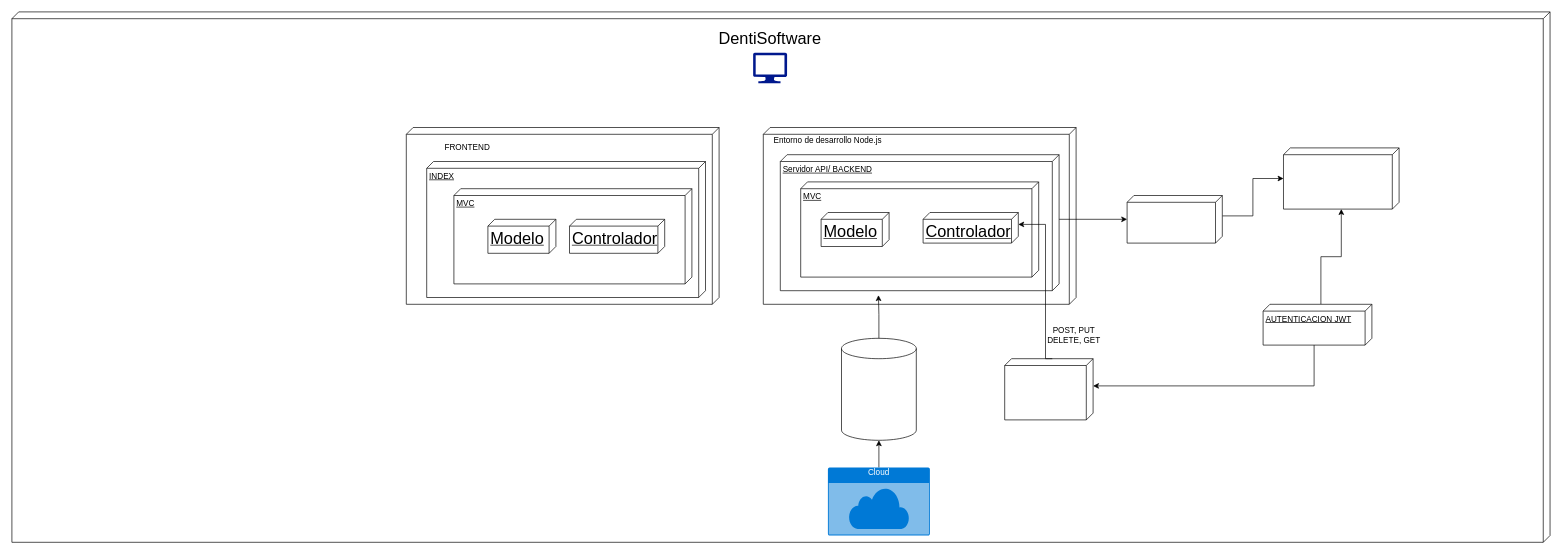
Image size: 1562x554. Some labels were removed from this diagram. The centre of each missing label's shape, as x and y in pixels:
"BASE DE DATOS MONGODB ATLAS" goes at point (878, 389).
"CLIENTE (WEB, MOVIl)" goes at point (1341, 178).
"PETICION HTTP" goes at point (1048, 389).
"RESPUESTA" goes at point (1174, 219).
